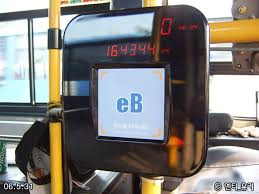terminal: (61, 2, 214, 182)
